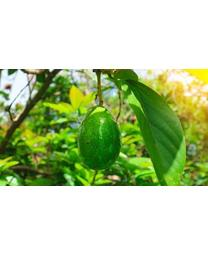avocado: (76, 104, 122, 170)
